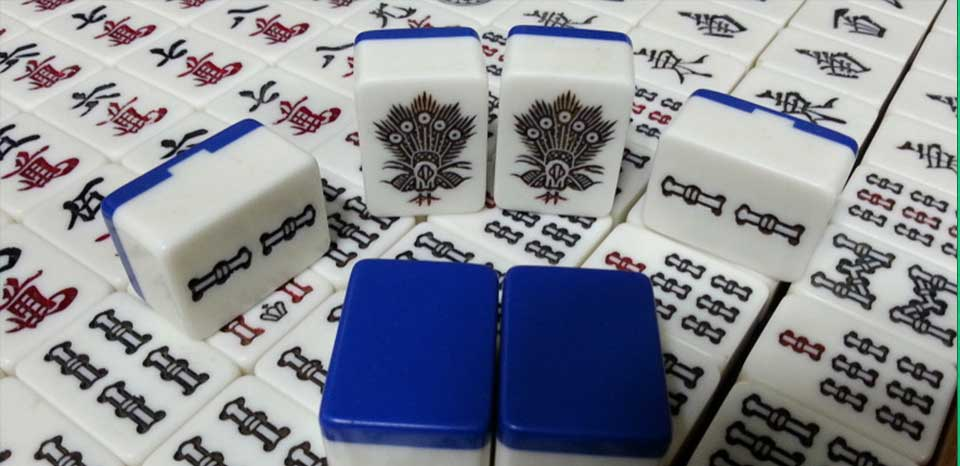sou_1: (349, 35, 486, 213), (499, 29, 620, 215)
sou_2: (100, 117, 329, 342), (645, 88, 861, 287)
